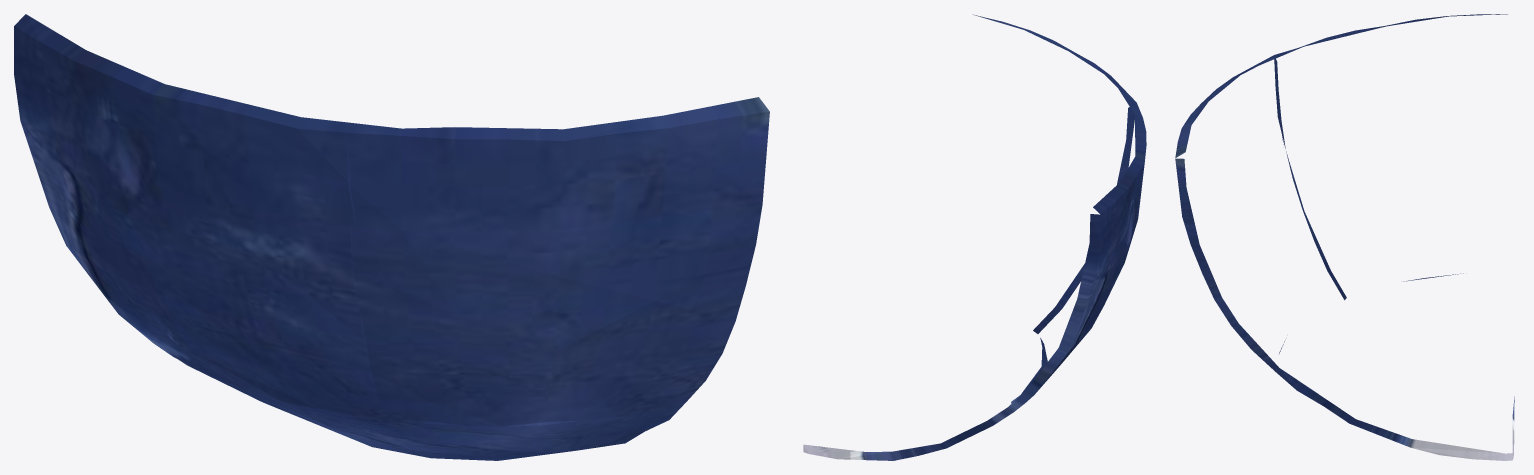
3 views of the same model, side by side, from view 1: azimuth 30°, elevation 25°; view 2: azimuth 150°, elevation 25°; view 3: azimuth 270°, elevation 25° (orthographic). The views are drawn at different scales.
Bounding box in the file's own units: 6489372 × 6446303 × 6527859.
Materials: 1 (1 with a texture image).
